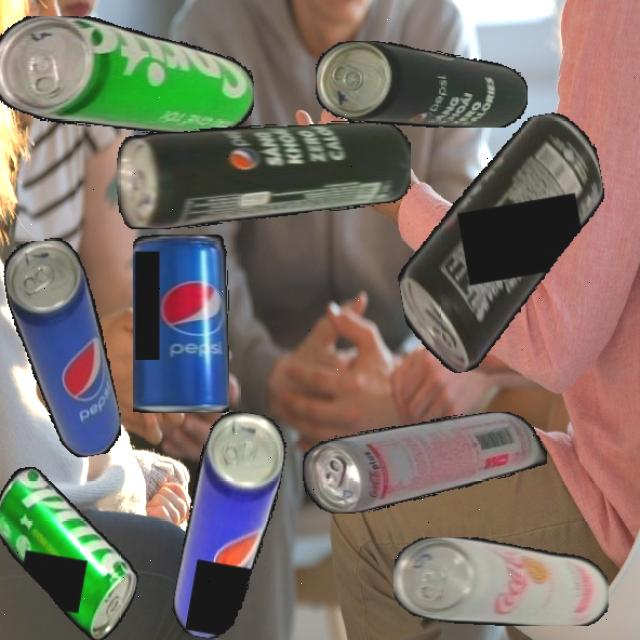debris: (375, 107, 630, 379), (116, 121, 410, 229), (0, 15, 254, 134), (0, 232, 125, 464), (168, 406, 290, 640), (0, 462, 153, 640), (302, 411, 547, 513), (394, 536, 608, 626), (316, 40, 528, 128), (132, 235, 229, 413)
